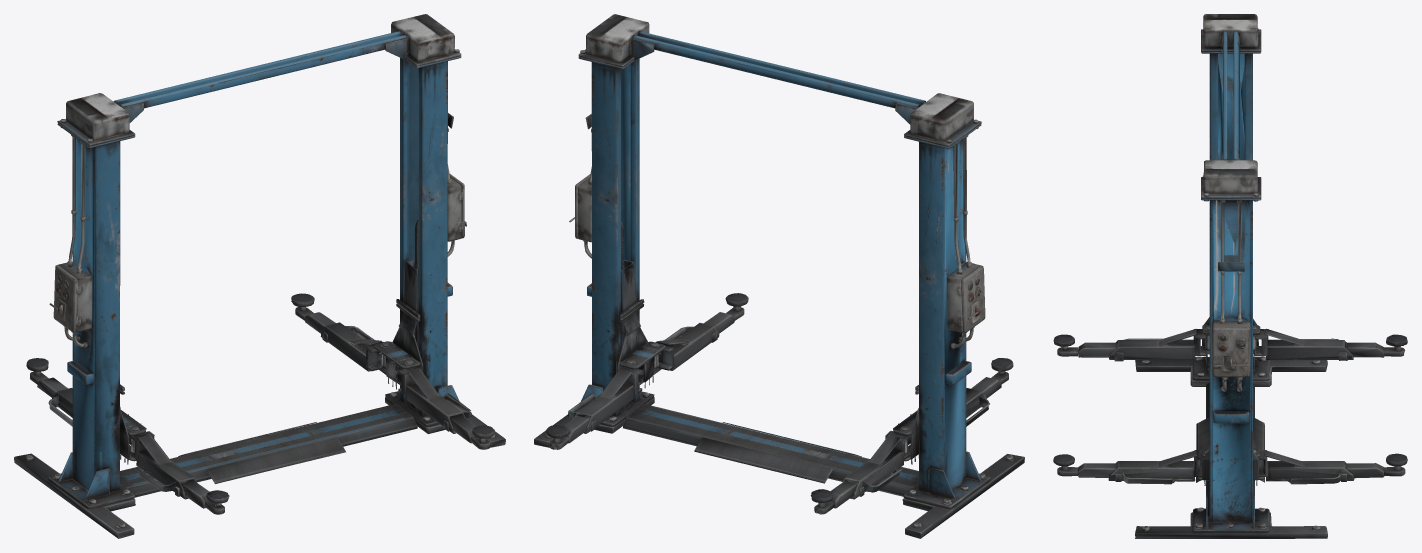
Rendered from nostin_meshy.glb.
3 renders of one model, left to right at view 1: azimuth 30°, elevation 25°; view 2: azimuth 150°, elevation 25°; view 3: azimuth 270°, elevation 25°, orthographic. The views are drawn at different scales.
Bounding box in the file's own units: 4.12 × 3.8 × 3.4.
1 material, 1 textured.
